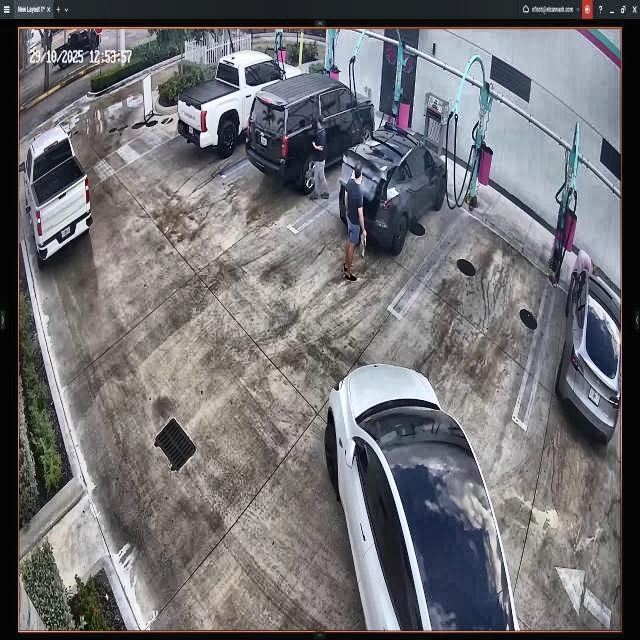Car: (323, 357, 520, 632), (246, 71, 374, 196), (339, 125, 445, 258), (178, 49, 301, 157)
